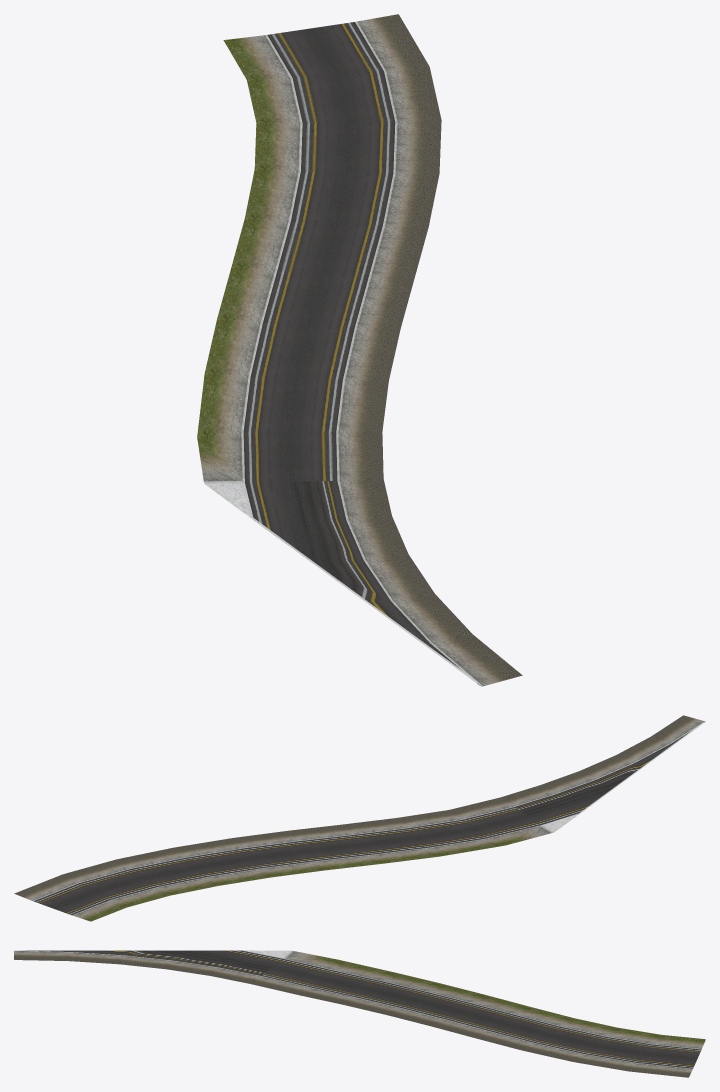
Rendered from vegassedge02.obj.
The picture shows the model from 3 angles, top to bottom: view 1: azimuth 30°, elevation 25°; view 2: azimuth 150°, elevation 25°; view 3: azimuth 270°, elevation 25°; orthographic projection. The views are drawn at different scales.
Parts seen in each view (by area): view 1: vegasSedge02; view 2: vegasSedge02; view 3: vegasSedge02.
Part boxes in pixels (left/top/right/bottom): vegasSedge02: left=197, top=14, right=522, bottom=686; vegasSedge02: left=14, top=715, right=705, bottom=921; vegasSedge02: left=14, top=950, right=705, bottom=1077.
Size of the model in its own units: 73.95 by 4.17 by 150.
5 materials, 5 textured.
